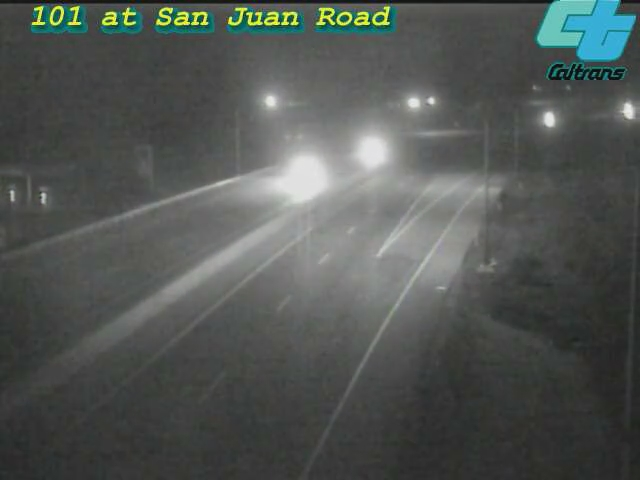vehicle: (264, 130, 344, 210), (327, 111, 407, 191), (525, 95, 575, 145), (600, 86, 640, 136)
